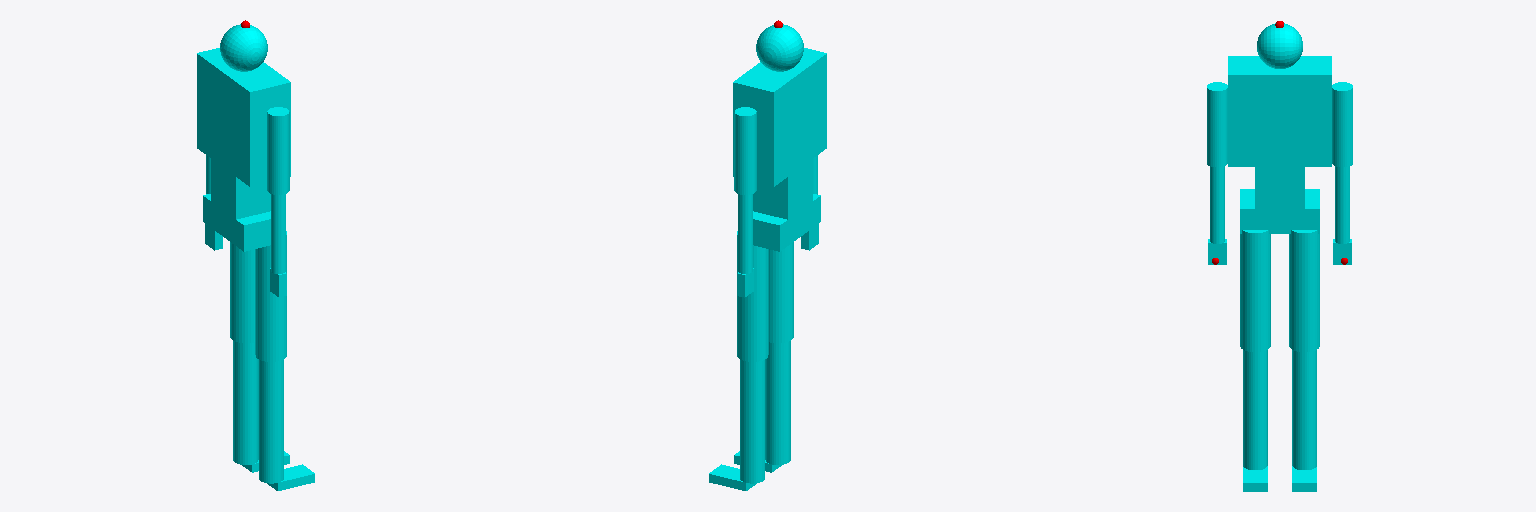
--- Render facts (derived) ---
3 views of the same robot in one strip: view 1: azimuth 30°, elevation 25°; view 2: azimuth 150°, elevation 25°; view 3: azimuth 270°, elevation 25° (orthographic).
Model human_36dof_ISB_model with 56 links and 55 joints (36 revolute, 19 fixed), rooted at base_link, posed every joint at zero.
Visible links, largest first — view 1: human_thorax, human_left_lowerleg, human_right_lowerleg, human_right_upperleg, human_left_upperleg, human_abdomen, human_pelvis, human_right_upperarm, human_head, human_right_lowerarm, human_right_foot; view 2: human_thorax, human_right_lowerleg, human_left_lowerleg, human_left_upperleg, human_right_upperleg, human_abdomen, human_pelvis, human_left_upperarm, human_head, human_left_lowerarm, human_left_foot; view 3: human_thorax, human_left_upperleg, human_right_upperleg, human_left_lowerleg, human_right_lowerleg, human_pelvis, human_abdomen, human_left_upperarm, human_right_upperarm, human_head, human_left_lowerarm, human_right_lowerarm (+2 smaller).
Boxes of the visible links, x1,y1,x2,y2 form: human_thorax: (197, 48, 290, 186); human_left_lowerleg: (233, 341, 258, 464); human_right_lowerleg: (259, 360, 283, 483); human_right_upperleg: (255, 231, 286, 361); human_left_upperleg: (230, 242, 254, 342); human_abdomen: (211, 159, 270, 219); human_pelvis: (203, 194, 270, 251); human_right_upperarm: (267, 107, 289, 194); human_head: (220, 24, 267, 71); human_right_lowerarm: (271, 194, 285, 273); human_right_foot: (267, 464, 314, 490); human_thorax: (733, 48, 826, 186); human_right_lowerleg: (765, 341, 790, 464); human_left_lowerleg: (740, 360, 764, 483); human_left_upperleg: (737, 231, 768, 361); human_right_upperleg: (769, 242, 793, 342); human_abdomen: (753, 159, 812, 219); human_pelvis: (753, 194, 820, 251); human_left_upperarm: (734, 107, 756, 194); human_head: (756, 24, 803, 71); human_left_lowerarm: (738, 194, 752, 273); human_left_foot: (709, 464, 756, 490); human_thorax: (1228, 56, 1331, 166); human_left_upperleg: (1289, 230, 1319, 351); human_right_upperleg: (1240, 230, 1270, 351); human_left_lowerleg: (1292, 350, 1316, 469); human_right_lowerleg: (1243, 350, 1267, 469); human_pelvis: (1240, 189, 1319, 233); human_abdomen: (1255, 167, 1304, 208); human_left_upperarm: (1332, 82, 1352, 167); human_right_upperarm: (1207, 82, 1227, 167); human_head: (1257, 23, 1302, 68); human_left_lowerarm: (1335, 166, 1349, 243); human_right_lowerarm: (1210, 166, 1224, 243).
Size in the robot's own frame: 0.2663 by 0.4774 by 1.61 metres.
Geometry: primitives only (box / cylinder / sphere), no mesh files.

robot.urdf — human_36dof_ISB_model:
<robot name="human_36dof_ISB_model">
    <material name="Cyan">
        <texture />
        <color rgba="0 1 1 0.5" />
    </material>
    <material name="Red">
        <texture />
        <color rgba="1 0 0 1" />
    </material>
    <link name="base_link" />
    <link name="human_abdomen">
        <inertial>
            <mass value="2.32" />
            <origin xyz="0.0262724 -0.0538883 -0.00492608" rpy="0 -0 0" />
            <inertia ixx="0.0218682" ixy="0.00391013" ixz="0.000486362" iyy="0.0241767" iyz="-0.00048662" izz="0.01661" />
        </inertial>
        <visual>
            <origin xyz="0 -0.0746375 0" rpy="0 -0 0" />
            <geometry>
                <box size="0.15 0.149275 0.15995" />
            </geometry>
            <material name="Cyan">
                <texture />
                <color rgba="0 1 1 0.5" />
            </material>
        </visual>
    </link>
    <link name="human_abdomen_COM">
        <visual>
            <origin xyz="0 0 0" rpy="0 -0 0" />
            <geometry>
                <sphere radius="0.015" />
            </geometry>
            <material name="Red">
                <texture />
                <color rgba="1 0 0 1" />
            </material>
        </visual>
    </link>
    <link name="human_abdomen_virtual_1" />
    <link name="human_abdomen_virtual_2" />
    <link name="human_head">
        <inertial>
            <mass value="5.36" />
            <origin xyz="0.005495 0.146716 0.00027475" rpy="0 -0 0" />
            <inertia ixx="0.151794" ixy="-0.00233867" ixz="0.000153753" iyy="0.023468" iyz="0.000148088" izz="0.154423" />
        </inertial>
        <visual>
            <origin xyz="0 0.0686875 0" rpy="0 -0 0" />
            <geometry>
                <sphere radius="0.0755563" />
            </geometry>
            <material name="Cyan">
                <texture />
                <color rgba="0 1 1 0.5" />
            </material>
        </visual>
    </link>
    <link name="human_head_COM">
        <visual>
            <origin xyz="0 0 0" rpy="0 -0 0" />
            <geometry>
                <sphere radius="0.015" />
            </geometry>
            <material name="Red">
                <texture />
                <color rgba="1 0 0 1" />
            </material>
        </visual>
    </link>
    <link name="human_head_virtual_1" />
    <link name="human_head_virtual_2" />
    <link name="human_left_clavicle" />
    <link name="human_left_foot">
        <inertial>
            <mass value="0.96" />
            <origin xyz="0.0689623 -0.0273376 -0.00467075" rpy="0 -0 0" />
            <inertia ixx="0.00161526" ixy="0.00233344" ixz="9.00053e-05" iyy="0.0089364" iyz="-0.00012258" izz="0.00945717" />
        </inertial>
        <visual>
            <origin xyz="0.0686875 -0.015 0" rpy="0 -0 0" />
            <geometry>
                <box size="0.137375 0.03 0.08" />
            </geometry>
            <material name="Cyan">
                <texture />
                <color rgba="0 1 1 0.5" />
            </material>
        </visual>
    </link>
    <link name="human_left_foot_COM">
        <visual>
            <origin xyz="0 0 0" rpy="0 -0 0" />
            <geometry>
                <sphere radius="0.015" />
            </geometry>
            <material name="Red">
                <texture />
                <color rgba="1 0 0 1" />
            </material>
        </visual>
    </link>
    <link name="human_left_foot_virtual_1" />
    <link name="human_left_hand">
        <inertial>
            <mass value="0.48" />
            <origin xyz="0.00647185 -0.0662181 -0.00591937" rpy="0 -0 0" />
            <inertia ixx="0.00323412" ixy="0.000350421" ixz="-4.88864e-05" iyy="0.000468679" iyz="-0.000307745" izz="0.00306249" />
        </inertial>
        <visual>
            <origin xyz="0 -0.0394625 0" rpy="0 -0 0" />
            <geometry>
                <box size="0.03 0.078925 0.06" />
            </geometry>
            <material name="Cyan">
                <texture />
                <color rgba="0 1 1 0.5" />
            </material>
        </visual>
    </link>
    <link name="human_left_hand_COM">
        <visual>
            <origin xyz="0 0 0" rpy="0 -0 0" />
            <geometry>
                <sphere radius="0.015" />
            </geometry>
            <material name="Red">
                <texture />
                <color rgba="1 0 0 1" />
            </material>
        </visual>
    </link>
    <link name="human_left_hand_virtual_1" />
    <link name="human_left_lowerarm">
        <inertial>
            <mass value="1.36" />
            <origin xyz="-0.00363545 -0.116614 -0.00307615" rpy="0 -0 0" />
            <inertia ixx="0.0268457" ixy="0.000104124" ixz="-2.58449e-05" iyy="0.00131777" iyz="-0.000530405" izz="0.0268508" />
        </inertial>
        <visual>
            <origin xyz="0 -0.139825 0" rpy="1.5708 -0 0" />
            <geometry>
                <cylinder radius="0.025" length="0.27965" />
            </geometry>
            <material name="Cyan">
                <texture />
                <color rgba="0 1 1 0.5" />
            </material>
        </visual>
    </link>
    <link name="human_left_lowerarm_COM">
        <visual>
            <origin xyz="0 0 0" rpy="0 -0 0" />
            <geometry>
                <sphere radius="0.015" />
            </geometry>
            <material name="Red">
                <texture />
                <color rgba="1 0 0 1" />
            </material>
        </visual>
    </link>
    <link name="human_left_lowerarm_virtual_1" />
    <link name="human_left_lowerleg">
        <inertial>
            <mass value="3.84" />
            <origin xyz="-0.0205464 -0.175501 -0.00299635" rpy="0 -0 0" />
            <inertia ixx="0.17347" ixy="-0.0127209" ixz="-0.000517843" iyy="0.00869146" iyz="-0.00314505" izz="0.175056" />
        </inertial>
        <visual>
            <origin xyz="0 -0.214025 0" rpy="1.5708 -0 0" />
            <geometry>
                <cylinder radius="0.04" length="0.42805" />
            </geometry>
            <material name="Cyan">
                <texture />
                <color rgba="0 1 1 0.5" />
            </material>
        </visual>
    </link>
    <link name="human_left_lowerleg_COM">
        <visual>
            <origin xyz="0 0 0" rpy="0 -0 0" />
            <geometry>
                <sphere radius="0.015" />
            </geometry>
            <material name="Red">
                <texture />
                <color rgba="1 0 0 1" />
            </material>
        </visual>
    </link>
    <link name="human_left_upperarm">
        <inertial>
            <mass value="1.92" />
            <origin xyz="0.0049266 -0.131923 0.0084847" rpy="0 -0 0" />
            <inertia ixx="0.0456496" ixy="0.00160745" ixz="-0.000209705" iyy="0.00261556" iyz="-0.00028162" izz="0.0464066" />
        </inertial>
        <visual>
            <origin xyz="0 -0.13685 0" rpy="1.5708 -0 0" />
            <geometry>
                <cylinder radius="0.035" length="0.2737" />
            </geometry>
            <material name="Cyan">
                <texture />
                <color rgba="0 1 1 0.5" />
            </material>
        </visual>
    </link>
    <link name="human_left_upperarm_COM">
        <visual>
            <origin xyz="0 0 0" rpy="0 -0 0" />
            <geometry>
                <sphere radius="0.015" />
            </geometry>
            <material name="Red">
                <texture />
                <color rgba="1 0 0 1" />
            </material>
        </visual>
    </link>
    <link name="human_left_upperarm_virtual_1" />
    <link name="human_left_upperarm_virtual_2" />
    <link name="human_left_upperleg">
        <inertial>
            <mass value="9.84" />
            <origin xyz="-0.017507 -0.183183 0.014091" rpy="0 -0 0" />
            <inertia ixx="0.48303" ixy="-0.0227656" ixz="0.00170979" iyy="0.0453373" iyz="0.0166081" izz="0.494678" />
        </inertial>
        <visual>
            <origin xyz="0 -0.2135 0" rpy="1.5708 -0 0" />
            <geometry>
                <cylinder radius="0.05" length="0.427" />
            </geometry>
            <material name="Cyan">
                <texture />
                <color rgba="0 1 1 0.5" />
            </material>
        </visual>
    </link>
    <link name="human_left_upperleg_COM">
        <visual>
            <origin xyz="0 0 0" rpy="0 -0 0" />
            <geometry>
                <sphere radius="0.015" />
            </geometry>
            <material name="Red">
                <texture />
                <color rgba="1 0 0 1" />
            </material>
        </visual>
    </link>
    <link name="human_left_upperleg_virtual_1" />
    <link name="human_left_upperleg_virtual_2" />
    <link name="human_pelvis">
        <inertial>
            <mass value="11.36" />
            <origin xyz="-0.00018375 -0.02646 -0.00055125" rpy="0 -0 0" />
            <inertia ixx="0.107721" ixy="0.00546803" ixz="0.00137966" iyy="0.107746" iyz="0.000447998" izz="0.096326" />
        </inertial>
        <visual>
            <origin xyz="0 -0.0459375 0" rpy="0 -0 0" />
            <geometry>
                <box size="0.15 0.091875 0.25995" />
            </geometry>
            <material name="Cyan">
                <texture />
                <color rgba="0 1 1 0.5" />
            </material>
        </visual>
    </link>
    <link name="human_pelvis_COM">
        <visual>
            <origin xyz="0 0 0" rpy="0 -0 0" />
            <geometry>
                <sphere radius="0.015" />
            </geometry>
            <material name="Red">
                <texture />
                <color rgba="1 0 0 1" />
            </material>
        </visual>
    </link>
    <link name="human_right_clavicle" />
    <link name="human_right_foot">
        <inertial>
            <mass value="0.96" />
            <origin xyz="0.0689623 -0.0273376 0.00467075" rpy="0 -0 0" />
            <inertia ixx="0.00161526" ixy="0.00233344" ixz="-9.00053e-05" iyy="0.0089364" iyz="0.00012258" izz="0.00945717" />
        </inertial>
        <visual>
            <origin xyz="0.0686875 -0.015 0" rpy="0 -0 0" />
            <geometry>
                <box size="0.137375 0.03 0.08" />
            </geometry>
            <material name="Cyan">
                <texture />
                <color rgba="0 1 1 0.5" />
            </material>
        </visual>
    </link>
    <link name="human_right_foot_COM">
        <visual>
            <origin xyz="0 0 0" rpy="0 -0 0" />
            <geometry>
                <sphere radius="0.015" />
            </geometry>
            <material name="Red">
                <texture />
                <color rgba="1 0 0 1" />
            </material>
        </visual>
    </link>
    <link name="human_right_foot_virtual_1" />
    <link name="human_right_hand">
        <inertial>
            <mass value="0.48" />
            <origin xyz="0.00647185 -0.0662181 0.00591937" rpy="0 -0 0" />
            <inertia ixx="0.00323412" ixy="0.000350421" ixz="4.88864e-05" iyy="0.000468679" iyz="0.000307745" izz="0.00306249" />
        </inertial>
        <visual>
            <origin xyz="0 -0.0394625 0" rpy="0 -0 0" />
            <geometry>
                <box size="0.03 0.078925 0.06" />
            </geometry>
            <material name="Cyan">
                <texture />
                <color rgba="0 1 1 0.5" />
            </material>
        </visual>
    </link>
    <link name="human_right_hand_COM">
        <visual>
            <origin xyz="0 0 0" rpy="0 -0 0" />
            <geometry>
                <sphere radius="0.015" />
            </geometry>
            <material name="Red">
                <texture />
                <color rgba="1 0 0 1" />
            </material>
        </visual>
    </link>
    <link name="human_right_hand_virtual_1" />
    <link name="human_right_lowerarm">
        <inertial>
            <mass value="1.36" />
            <origin xyz="-0.00363545 -0.116614 0.00307615" rpy="0 -0 0" />
            <inertia ixx="0.0268457" ixy="0.000104124" ixz="2.58449e-05" iyy="0.00131777" iyz="0.000530405" izz="0.0268508" />
        </inertial>
        <visual>
            <origin xyz="0 -0.139825 0" rpy="1.5708 -0 0" />
            <geometry>
                <cylinder radius="0.025" length="0.27965" />
            </geometry>
            <material name="Cyan">
                <texture />
                <color rgba="0 1 1 0.5" />
            </material>
        </visual>
    </link>
    <link name="human_right_lowerarm_COM">
        <visual>
            <origin xyz="0 0 0" rpy="0 -0 0" />
            <geometry>
                <sphere radius="0.015" />
            </geometry>
            <material name="Red">
                <texture />
                <color rgba="1 0 0 1" />
            </material>
        </visual>
    </link>
    <link name="human_right_lowerarm_virtual_1" />
    <link name="human_right_lowerleg">
        <inertial>
            <mass value="3.84" />
            <origin xyz="-0.0205464 -0.175501 0.00299635" rpy="0 -0 0" />
            <inertia ixx="0.17347" ixy="-0.0127209" ixz="0.000517843" iyy="0.00869146" iyz="0.00314505" izz="0.175056" />
        </inertial>
        <visual>
            <origin xyz="0 -0.214025 0" rpy="1.5708 -0 0" />
            <geometry>
                <cylinder radius="0.04" length="0.42805" />
            </geometry>
            <material name="Cyan">
                <texture />
                <color rgba="0 1 1 0.5" />
            </material>
        </visual>
    </link>
    <link name="human_right_lowerleg_COM">
        <visual>
            <origin xyz="0 0 0" rpy="0 -0 0" />
            <geometry>
                <sphere radius="0.015" />
            </geometry>
            <material name="Red">
                <texture />
                <color rgba="1 0 0 1" />
            </material>
        </visual>
    </link>
    <link name="human_right_upperarm">
        <inertial>
            <mass value="1.92" />
            <origin xyz="0.0049266 -0.131923 -0.0084847" rpy="0 -0 0" />
            <inertia ixx="0.0456496" ixy="0.00160745" ixz="0.000209705" iyy="0.00261556" iyz="0.00028162" izz="0.0464066" />
        </inertial>
        <visual>
            <origin xyz="0 -0.13685 0" rpy="1.5708 -0 0" />
            <geometry>
                <cylinder radius="0.035" length="0.2737" />
            </geometry>
            <material name="Cyan">
                <texture />
                <color rgba="0 1 1 0.5" />
            </material>
        </visual>
    </link>
    <link name="human_right_upperarm_COM">
        <visual>
            <origin xyz="0 0 0" rpy="0 -0 0" />
            <geometry>
                <sphere radius="0.015" />
            </geometry>
            <material name="Red">
                <texture />
                <color rgba="1 0 0 1" />
            </material>
        </visual>
    </link>
    <link name="human_right_upperarm_virtual_1" />
    <link name="human_right_upperarm_virtual_2" />
    <link name="human_right_upperleg">
        <inertial>
            <mass value="9.84" />
            <origin xyz="-0.017507 -0.183183 -0.014091" rpy="0 -0 0" />
            <inertia ixx="0.48303" ixy="-0.0227656" ixz="-0.00170979" iyy="0.0453373" iyz="-0.0166081" izz="0.494678" />
        </inertial>
        <visual>
            <origin xyz="0 -0.2135 0" rpy="1.5708 -0 0" />
            <geometry>
                <cylinder radius="0.05" length="0.427" />
            </geometry>
            <material name="Cyan">
                <texture />
                <color rgba="0 1 1 0.5" />
            </material>
        </visual>
    </link>
    <link name="human_right_upperleg_COM">
        <visual>
            <origin xyz="0 0 0" rpy="0 -0 0" />
            <geometry>
                <sphere radius="0.015" />
            </geometry>
            <material name="Red">
                <texture />
                <color rgba="1 0 0 1" />
            </material>
        </visual>
    </link>
    <link name="human_right_upperleg_virtual_1" />
    <link name="human_right_upperleg_virtual_2" />
    <link name="human_thorax">
        <inertial>
            <mass value="24.32" />
            <origin xyz="0 -0.183275 -0.0013209" rpy="0 -0 0" />
            <inertia ixx="1.28477" ixy="0.0320899" ixz="0.000265206" iyy="0.288852" iyz="-0.00350072" izz="1.16061" />
        </inertial>
        <visual>
            <origin xyz="0 -0.165112 0" rpy="0 -0 0" />
            <geometry>
                <box size="0.15 0.330225 0.3374" />
            </geometry>
            <material name="Cyan">
                <texture />
                <color rgba="0 1 1 0.5" />
            </material>
        </visual>
    </link>
    <link name="human_thorax_COM">
        <visual>
            <origin xyz="0 0 0" rpy="0 -0 0" />
            <geometry>
                <sphere radius="0.015" />
            </geometry>
            <material name="Red">
                <texture />
                <color rgba="1 0 0 1" />
            </material>
        </visual>
    </link>
    <link name="human_thorax_virtual_1" />
    <link name="human_thorax_virtual_2" />
    <link name="human_thorax_virtual_3" />
    <joint name="base_link_to_human_pelvis_fixed" type="fixed">
        <origin xyz="0 0 0" rpy="1.5708 -0 0" />
        <axis xyz="0 0 0" />
        <parent link="base_link" />
        <child link="human_pelvis" />
    </joint>
    <joint name="human_abdomen_COM" type="fixed">
        <origin xyz="0.0262724 -0.0538883 -0.00492608" rpy="0 -0 0" />
        <axis xyz="0 0 0" />
        <parent link="human_abdomen" />
        <child link="human_abdomen_COM" />
        <limit effort="0" velocity="0" lower="0" upper="0" />
    </joint>
    <joint name="human_abdomen_fixed" type="fixed">
        <origin xyz="0 0.149275 0" rpy="0 -0 0" />
        <axis xyz="0 0 0" />
        <parent link="human_abdomen_virtual_2" />
        <child link="human_abdomen" />
    </joint>
    <joint name="human_cervical_X" type="revolute">
        <origin xyz="0 0 0" rpy="0 -0 0" />
        <axis xyz="1 0 0" />
        <parent link="human_head_virtual_1" />
        <child link="human_head_virtual_2" />
        <limit effort="0" velocity="0" lower="-1.0472" upper="1.0472" />
    </joint>
    <joint name="human_cervical_Y" type="revolute">
        <origin xyz="0 0 0" rpy="0 -0 0" />
        <axis xyz="0 1 0" />
        <parent link="human_head_virtual_2" />
        <child link="human_head" />
        <limit effort="0" velocity="0" lower="-1.5708" upper="1.5708" />
    </joint>
    <joint name="human_cervical_Z" type="revolute">
        <origin xyz="0 0 0" rpy="0 -0 0" />
        <axis xyz="0 0 1" />
        <parent link="human_thorax" />
        <child link="human_head_virtual_1" />
        <limit effort="0" velocity="0" lower="-1.5708" upper="1.5708" />
    </joint>
    <joint name="human_head_COM" type="fixed">
        <origin xyz="0.005495 0.146716 0.00027475" rpy="0 -0 0" />
        <axis xyz="0 0 0" />
        <parent link="human_head" />
        <child link="human_head_COM" />
        <limit effort="0" velocity="0" lower="0" upper="0" />
    </joint>
    <joint name="human_left_ankle_X" type="revolute">
        <origin xyz="0 0 0" rpy="0 -0 0" />
        <axis xyz="-1 0 0" />
        <parent link="human_left_foot_virtual_1" />
        <child link="human_left_foot" />
        <limit effort="0" velocity="0" lower="0" upper="0.785398" />
    </joint>
    <joint name="human_left_ankle_Z" type="revolute">
        <origin xyz="0 -0.42805 0" rpy="0 -0 0" />
        <axis xyz="0 0 1" />
        <parent link="human_left_lowerleg" />
        <child link="human_left_foot_virtual_1" />
        <limit effort="0" velocity="0" lower="-1.0472" upper="0.392699" />
    </joint>
    <joint name="human_left_clavicle_joint_X" type="revolute">
        <origin xyz="0 0 0" rpy="0 -0 0" />
        <axis xyz="1 0 0" />
        <parent link="human_thorax" />
        <child link="human_left_clavicle" />
        <limit effort="0" velocity="0" lower="-1.0472" upper="0.314159" />
    </joint>
    <joint name="human_left_elbow_Y" type="revolute">
        <origin xyz="0 0 0" rpy="0 -0 0" />
        <axis xyz="0 -1 0" />
        <parent link="human_left_lowerarm_virtual_1" />
        <child link="human_left_lowerarm" />
        <limit effort="0" velocity="0" lower="-1.5708" upper="1.5708" />
    </joint>
    <joint name="human_left_elbow_Z" type="revolute">
        <origin xyz="0 -0.2737 0" rpy="0 -0 0" />
        <axis xyz="0 0 1" />
        <parent link="human_left_upperarm" />
        <child link="human_left_lowerarm_virtual_1" />
        <limit effort="0" velocity="0" lower="0" upper="2.74889" />
    </joint>
    <joint name="human_left_foot_COM" type="fixed">
        <origin xyz="0.0689623 -0.0273376 -0.00467075" rpy="0 -0 0" />
        <axis xyz="0 0 0" />
        <parent link="human_left_foot" />
        <child link="human_left_foot_COM" />
        <limit effort="0" velocity="0" lower="0" upper="0" />
    </joint>
    <joint name="human_left_hand_COM" type="fixed">
        <origin xyz="0.00647185 -0.0662181 -0.00591937" rpy="0 -0 0" />
        <axis xyz="0 0 0" />
        <parent link="human_left_hand" />
        <child link="human_left_hand_COM" />
        <limit effort="0" velocity="0" lower="0" upper="0" />
    </joint>
    <joint name="human_left_hip_X" type="revolute">
        <origin xyz="0 0 0" rpy="0 -0 0" />
        <axis xyz="-1 0 0" />
        <parent link="human_left_upperleg_virtual_1" />
        <child link="human_left_upperleg_virtual_2" />
        <limit effort="0" velocity="0" lower="-0.392699" upper="1.5708" />
    </joint>
    <joint name="human_left_hip_Y" type="revolute">
        <origin xyz="0 0 0" rpy="0 -0 0" />
        <axis xyz="0 -1 0" />
        <parent link="human_left_upperleg_virtual_2" />
        <child link="human_left_upperleg" />
        <limit effort="0" velocity="0" lower="-1.5708" upper="1.5708" />
    </joint>
    <joint name="human_left_hip_Z" type="revolute">
        <origin xyz="0.053375 -0.0749 -0.079975" rpy="0 -0 0" />
        <axis xyz="0 0 1" />
        <parent link="human_pelvis" />
        <child link="human_left_upperleg_virtual_1" />
        <limit effort="0" velocity="0" lower="-0.785398" upper="3.14159" />
    </joint>
    <joint name="human_left_knee_Z" type="revolute">
        <origin xyz="0 -0.427 0" rpy="0 -0 0" />
        <axis xyz="0 0 -1" />
        <parent link="human_left_upperleg" />
        <child link="human_left_lowerleg" />
        <limit effort="0" velocity="0" lower="0" upper="2.74889" />
    </joint>
    <joint name="human_left_lowerarm_COM" type="fixed">
        <origin xyz="-0.00363545 -0.116614 -0.00307615" rpy="0 -0 0" />
        <axis xyz="0 0 0" />
        <parent link="human_left_lowerarm" />
        <child link="human_left_lowerarm_COM" />
        <limit effort="0" velocity="0" lower="0" upper="0" />
    </joint>
    <joint name="human_left_lowerleg_COM" type="fixed">
        <origin xyz="-0.0205464 -0.175501 -0.00299635" rpy="0 -0 0" />
        <axis xyz="0 0 0" />
        <parent link="human_left_lowerleg" />
        <child link="human_left_lowerleg_COM" />
        <limit effort="0" velocity="0" lower="0" upper="0" />
    </joint>
    <joint name="human_left_shoulder_X" type="revolute">
        <origin xyz="0 0 0" rpy="0 -0 0" />
        <axis xyz="-1 0 0" />
        <parent link="human_left_upperarm_virtual_1" />
        <child link="human_left_upperarm_virtual_2" />
        <limit effort="0" velocity="0" lower="-3.14159" upper="1.0472" />
    </joint>
    <joint name="human_left_shoulder_Y" type="revolute">
        <origin xyz="0.00805 -0.0728 -0.2037" rpy="0 -0 0" />
        <axis xyz="0 -1 0" />
        <parent link="human_left_clavicle" />
        <child link="human_left_upperarm_virtual_1" />
        <limit effort="0" velocity="0" lower="-2.0944" upper="0.392699" />
    </joint>
    <joint name="human_left_shoulder_Z" type="revolute">
        <origin xyz="0 0 0" rpy="0 -0 0" />
        <axis xyz="0 0 1" />
        <parent link="human_left_upperarm_virtual_2" />
        <child link="human_left_upperarm" />
        <limit effort="0" velocity="0" lower="-1.5708" upper="3.14159" />
    </joint>
    <joint name="human_left_upperarm_COM" type="fixed">
        <origin xyz="0.0049266 -0.131923 0.0084847" rpy="0 -0 0" />
        <axis xyz="0 0 0" />
        <parent link="human_left_upperarm" />
        <child link="human_left_upperarm_COM" />
        <limit effort="0" velocity="0" lower="0" upper="0" />
    </joint>
    <joint name="human_left_upperleg_COM" type="fixed">
        <origin xyz="-0.017507 -0.183183 0.014091" rpy="0 -0 0" />
        <axis xyz="0 0 0" />
        <parent link="human_left_upperleg" />
        <child link="human_left_upperleg_COM" />
        <limit effort="0" velocity="0" lower="0" upper="0" />
    </joint>
    <joint name="human_left_wrist_X" type="revolute">
        <origin xyz="0 0 0" rpy="0 -0 0" />
        <axis xyz="-1 0 0" />
        <parent link="human_left_hand_virtual_1" />
        <child link="human_left_hand" />
        <limit effort="0" velocity="0" lower="-0.785398" upper="0.785398" />
    </joint>
    <joint name="human_left_wrist_Z" type="revolute">
        <origin xyz="0 -0.27965 0" rpy="0 -0 0" />
        <axis xyz="0 0 1" />
        <parent link="human_left_lowerarm" />
        <child link="human_left_hand_virtual_1" />
        <limit effort="0" velocity="0" lower="-1.5708" upper="1.5708" />
    </joint>
    <joint name="human_lumbar_X" type="revolute">
        <origin xyz="0 0 0" rpy="0 -0 0" />
        <axis xyz="1 0 0" />
        <parent link="human_abdomen_virtual_1" />
        <child link="human_abdomen_virtual_2" />
        <limit effort="0" velocity="0" lower="-0.785398" upper="0.785398" />
    </joint>
    <joint name="human_lumbar_Z" type="revolute">
        <origin xyz="0 0 0" rpy="0 -0 0" />
        <axis xyz="0 0 1" />
        <parent link="human_pelvis" />
        <child link="human_abdomen_virtual_1" />
        <limit effort="0" velocity="0" lower="-3.14159" upper="0.785398" />
    </joint>
    <joint name="human_pelvis_COM" type="fixed">
        <origin xyz="-0.00018375 -0.02646 -0.00055125" rpy="0 -0 0" />
        <axis xyz="0 0 0" />
        <parent link="human_pelvis" />
        <child link="human_pelvis_COM" />
        <limit effort="0" velocity="0" lower="0" upper="0" />
    </joint>
    <joint name="human_right_ankle_X" type="revolute">
        <origin xyz="0 0 0" rpy="0 -0 0" />
        <axis xyz="1 0 0" />
        <parent link="human_right_foot_virtual_1" />
        <child link="human_right_foot" />
        <limit effort="0" velocity="0" lower="0" upper="0.785398" />
    </joint>
    <joint name="human_right_ankle_Z" type="revolute">
        <origin xyz="0 -0.42805 0" rpy="0 -0 0" />
        <axis xyz="0 0 1" />
        <parent link="human_right_lowerleg" />
        <child link="human_right_foot_virtual_1" />
        <limit effort="0" velocity="0" lower="-1.0472" upper="0.392699" />
    </joint>
    <joint name="human_right_clavicle_joint_X" type="revolute">
        <origin xyz="0 0 0" rpy="0 -0 0" />
        <axis xyz="-1 0 0" />
        <parent link="human_thorax" />
        <child link="human_right_clavicle" />
        <limit effort="0" velocity="0" lower="-1.0472" upper="0.314159" />
    </joint>
    <joint name="human_right_elbow_Y" type="revolute">
        <origin xyz="0 0 0" rpy="0 -0 0" />
        <axis xyz="0 1 0" />
        <parent link="human_right_lowerarm_virtual_1" />
        <child link="human_right_lowerarm" />
        <limit effort="0" velocity="0" lower="-1.5708" upper="1.5708" />
    </joint>
    <joint name="human_right_elbow_Z" type="revolute">
        <origin xyz="0 -0.2737 0" rpy="0 -0 0" />
        <axis xyz="0 0 1" />
        <parent link="human_right_upperarm" />
        <child link="human_right_lowerarm_virtual_1" />
        <limit effort="0" velocity="0" lower="0" upper="2.74889" />
    </joint>
    <joint name="human_right_foot_COM" type="fixed">
        <origin xyz="0.0689623 -0.0273376 0.00467075" rpy="0 -0 0" />
        <axis xyz="0 0 0" />
        <parent link="human_right_foot" />
        <child link="human_right_foot_COM" />
        <limit effort="0" velocity="0" lower="0" upper="0" />
    </joint>
    <joint name="human_right_hand_COM" type="fixed">
        <origin xyz="0.00647185 -0.0662181 0.00591937" rpy="0 -0 0" />
        <axis xyz="0 0 0" />
        <parent link="human_right_hand" />
        <child link="human_right_hand_COM" />
        <limit effort="0" velocity="0" lower="0" upper="0" />
    </joint>
    <joint name="human_right_hip_X" type="revolute">
        <origin xyz="0 0 0" rpy="0 -0 0" />
        <axis xyz="1 0 0" />
        <parent link="human_right_upperleg_virtual_1" />
        <child link="human_right_upperleg_virtual_2" />
        <limit effort="0" velocity="0" lower="-0.392699" upper="1.5708" />
    </joint>
    <joint name="human_right_hip_Y" type="revolute">
        <origin xyz="0 0 0" rpy="0 -0 0" />
        <axis xyz="0 1 0" />
        <parent link="human_right_upperleg_virtual_2" />
        <child link="human_right_upperleg" />
        <limit effort="0" velocity="0" lower="-1.5708" upper="1.5708" />
    </joint>
    <joint name="human_right_hip_Z" type="revolute">
        <origin xyz="0.053375 -0.0749 0.079975" rpy="0 -0 0" />
        <axis xyz="0 0 1" />
        <parent link="human_pelvis" />
        <child link="human_right_upperleg_virtual_1" />
        <limit effort="0" velocity="0" lower="-0.785398" upper="3.14159" />
    </joint>
    <joint name="human_right_knee_Z" type="revolute">
        <origin xyz="0 -0.427 0" rpy="0 -0 0" />
        <axis xyz="0 0 -1" />
        <parent link="human_right_upperleg" />
        <child link="human_right_lowerleg" />
        <limit effort="0" velocity="0" lower="0" upper="2.74889" />
    </joint>
    <joint name="human_right_lowerarm_COM" type="fixed">
        <origin xyz="-0.00363545 -0.116614 0.00307615" rpy="0 -0 0" />
        <axis xyz="0 0 0" />
        <parent link="human_right_lowerarm" />
        <child link="human_right_lowerarm_COM" />
        <limit effort="0" velocity="0" lower="0" upper="0" />
    </joint>
    <joint name="human_right_lowerleg_COM" type="fixed">
        <origin xyz="-0.0205464 -0.175501 0.00299635" rpy="0 -0 0" />
        <axis xyz="0 0 0" />
        <parent link="human_right_lowerleg" />
        <child link="human_right_lowerleg_COM" />
        <limit effort="0" velocity="0" lower="0" upper="0" />
    </joint>
    <joint name="human_right_shoulder_X" type="revolute">
        <origin xyz="0 0 0" rpy="0 -0 0" />
        <axis xyz="1 0 0" />
        <parent link="human_right_upperarm_virtual_1" />
        <child link="human_right_upperarm_virtual_2" />
        <limit effort="0" velocity="0" lower="-3.14159" upper="1.0472" />
    </joint>
    <joint name="human_right_shoulder_Y" type="revolute">
        <origin xyz="0.00805 -0.0728 0.2037" rpy="0 -0 0" />
        <axis xyz="0 1 0" />
        <parent link="human_right_clavicle" />
        <child link="human_right_upperarm_virtual_1" />
        <limit effort="0" velocity="0" lower="-2.0944" upper="0.392699" />
    </joint>
    <joint name="human_right_shoulder_Z" type="revolute">
        <origin xyz="0 0 0" rpy="0 -0 0" />
        <axis xyz="0 1 0" />
        <parent link="human_right_upperarm_virtual_2" />
        <child link="human_right_upperarm" />
        <limit effort="0" velocity="0" lower="-1.5708" upper="3.14159" />
    </joint>
    <joint name="human_right_upperarm_COM" type="fixed">
        <origin xyz="0.0049266 -0.131923 -0.0084847" rpy="0 -0 0" />
        <axis xyz="0 0 0" />
        <parent link="human_right_upperarm" />
        <child link="human_right_upperarm_COM" />
        <limit effort="0" velocity="0" lower="0" upper="0" />
    </joint>
    <joint name="human_right_upperleg_COM" type="fixed">
        <origin xyz="-0.017507 -0.183183 -0.014091" rpy="0 -0 0" />
        <axis xyz="0 0 0" />
        <parent link="human_right_upperleg" />
        <child link="human_right_upperleg_COM" />
        <limit effort="0" velocity="0" lower="0" upper="0" />
    </joint>
    <joint name="human_right_wrist_X" type="revolute">
        <origin xyz="0 0 0" rpy="0 -0 0" />
        <axis xyz="1 0 0" />
        <parent link="human_right_hand_virtual_1" />
        <child link="human_right_hand" />
        <limit effort="0" velocity="0" lower="-0.785398" upper="0.785398" />
    </joint>
    <joint name="human_right_wrist_Z" type="revolute">
        <origin xyz="0 -0.27965 0" rpy="0 -0 0" />
        <axis xyz="0 0 1" />
        <parent link="human_right_lowerarm" />
        <child link="human_right_hand_virtual_1" />
        <limit effort="0" velocity="0" lower="-1.5708" upper="1.5708" />
    </joint>
    <joint name="human_thoracic_X" type="revolute">
        <origin xyz="0 0 0" rpy="0 -0 0" />
        <axis xyz="1 0 0" />
        <parent link="human_thorax_virtual_1" />
        <child link="human_thorax_virtual_2" />
        <limit effort="0" velocity="0" lower="-1.0472" upper="1.0472" />
    </joint>
    <joint name="human_thoracic_Y" type="revolute">
        <origin xyz="0 0 0" rpy="0 -0 0" />
        <axis xyz="0 1 0" />
        <parent link="human_thorax_virtual_2" />
        <child link="human_thorax_virtual_3" />
        <limit effort="0" velocity="0" lower="-1.0472" upper="1.0472" />
    </joint>
    <joint name="human_thoracic_Z" type="revolute">
        <origin xyz="0 0 0" rpy="0 -0 0" />
        <axis xyz="0 0 1" />
        <parent link="human_abdomen" />
        <child link="human_thorax_virtual_1" />
        <limit effort="0" velocity="0" lower="-1.0472" upper="0.392699" />
    </joint>
    <joint name="human_thorax_COM" type="fixed">
        <origin xyz="0 -0.183275 -0.0013209" rpy="0 -0 0" />
        <axis xyz="0 0 0" />
        <parent link="human_thorax" />
        <child link="human_thorax_COM" />
        <limit effort="0" velocity="0" lower="0" upper="0" />
    </joint>
    <joint name="human_thorax_fixed" type="fixed">
        <origin xyz="0 0.330225 0" rpy="0 -0 0" />
        <axis xyz="0 0 0" />
        <parent link="human_thorax_virtual_3" />
        <child link="human_thorax" />
    </joint>
</robot>
